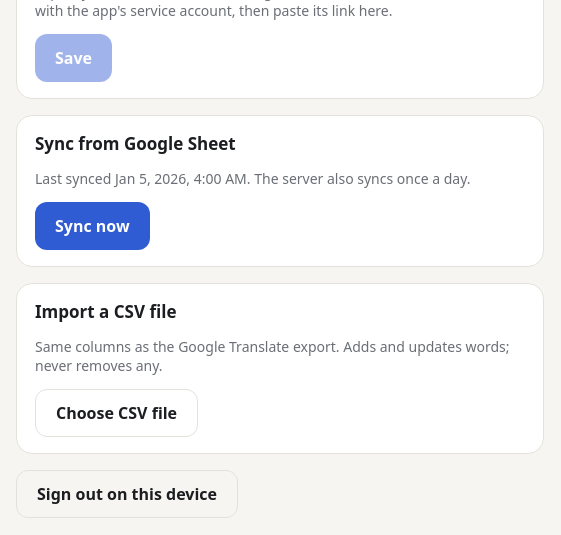
Test: Signing in › signs out from Settings
(page scrolled)
Click the button "Sign out on this device" at (127, 494), box [16, 470, 238, 518]
(page scrolled)
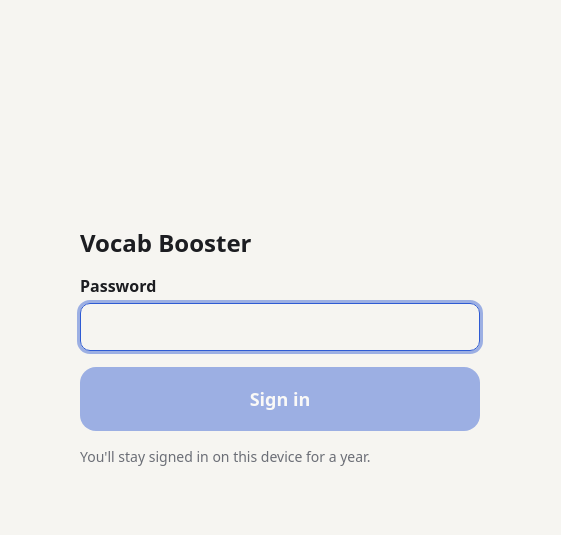
Now the password field labelled "Password" is shown, box [80, 303, 480, 351]
